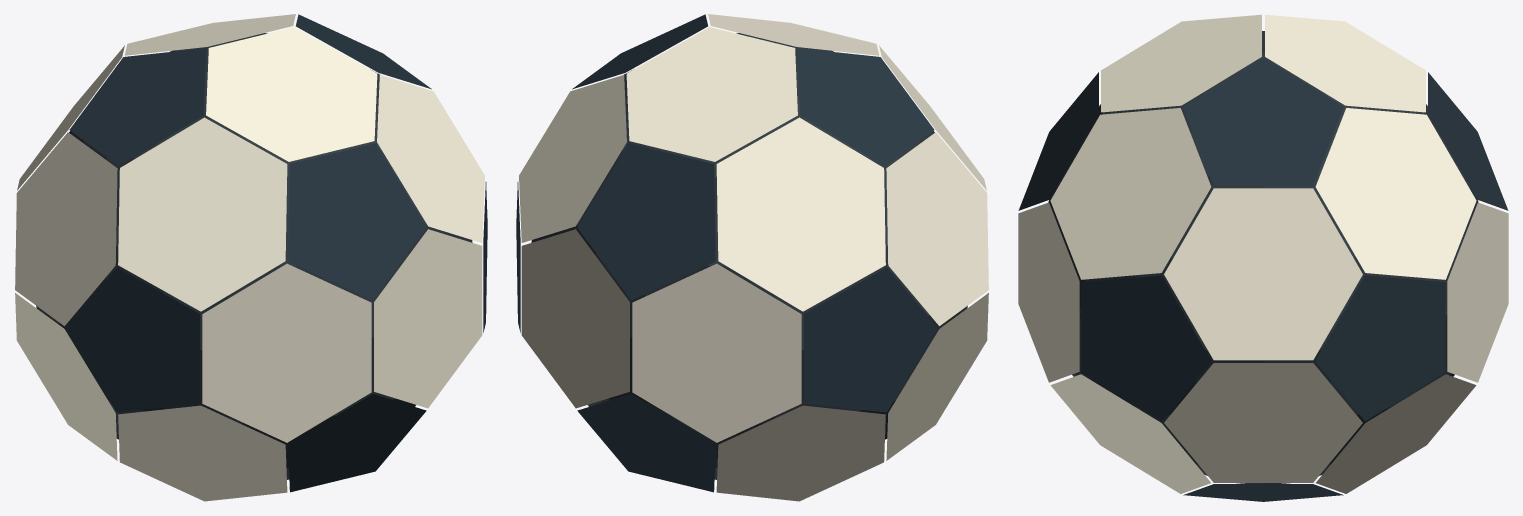
The model's file is football.glb.
3 views of the same model, side by side, from view 1: azimuth 30°, elevation 25°; view 2: azimuth 150°, elevation 25°; view 3: azimuth 270°, elevation 25° (orthographic).
Parts seen in each view (by area): view 1: Ivory hexagon (×10), Charcoal pentagon (×6), Seam backing; view 2: Ivory hexagon (×10), Charcoal pentagon (×6), Seam backing; view 3: Ivory hexagon (×10), Charcoal pentagon (×6), Seam backing.
Boxes of the visible parts, x1,y1,x2,y2 form: Ivory hexagon (×10): (15,14,484,501); Charcoal pentagon (×6): (66,14,487,492); Seam backing: (36,33,472,479); Ivory hexagon (×10): (519,14,988,501); Charcoal pentagon (×6): (516,14,937,492); Seam backing: (531,33,967,479); Ivory hexagon (×10): (1018,14,1508,493); Charcoal pentagon (×6): (1018,58,1508,501); Seam backing: (1048,31,1478,483).
Bounding box in the file's own units: 0.7037 × 0.7037 × 0.7037.
